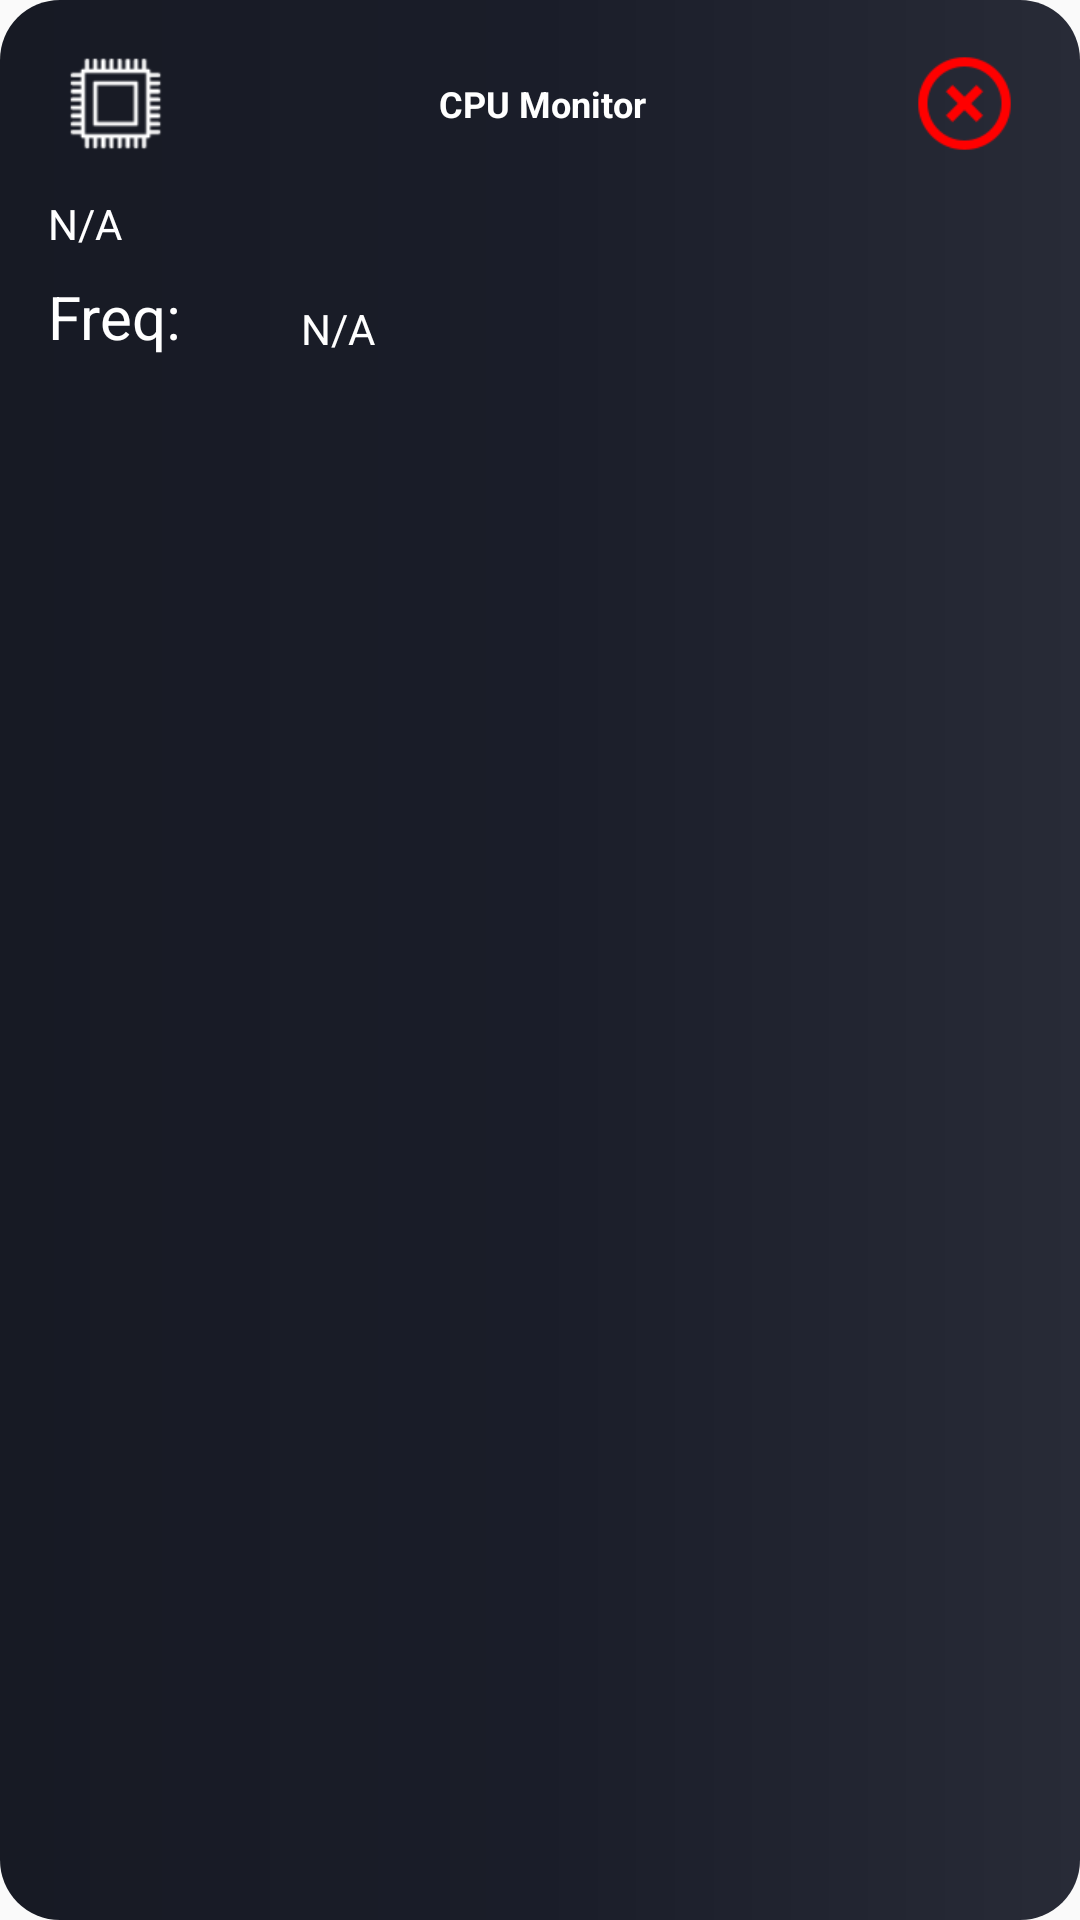

Icon click points for this 1080w x 1920h phone screenshot, format (x,y):
close: (964,103)
cpu: (115,103)
